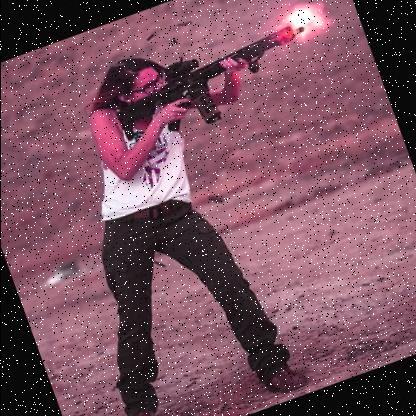rifle: (100, 5, 329, 158)
